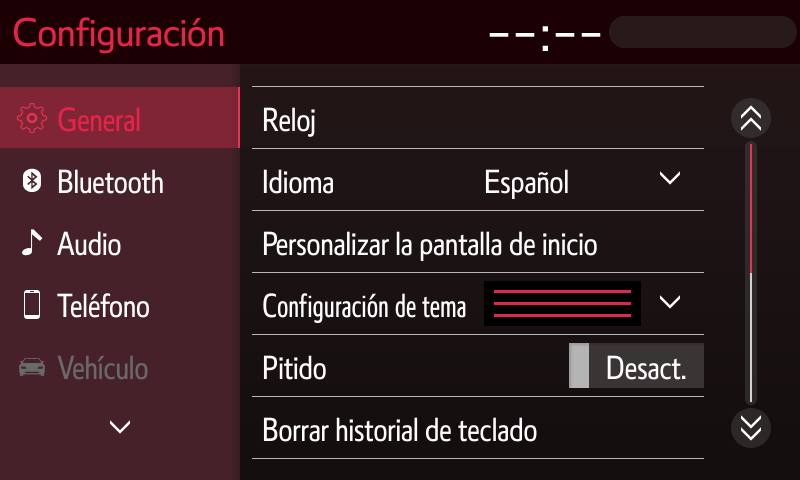touchPart: (248, 390, 709, 469), (252, 80, 708, 154), (247, 266, 703, 339), (249, 204, 703, 277), (247, 330, 708, 401), (250, 143, 705, 214), (20, 163, 169, 205), (18, 284, 164, 323), (22, 221, 139, 261), (731, 94, 775, 141), (731, 408, 772, 448), (101, 413, 138, 443)
untouchPart: (1, 81, 243, 151), (470, 15, 794, 51), (10, 9, 233, 56), (10, 347, 176, 390)
